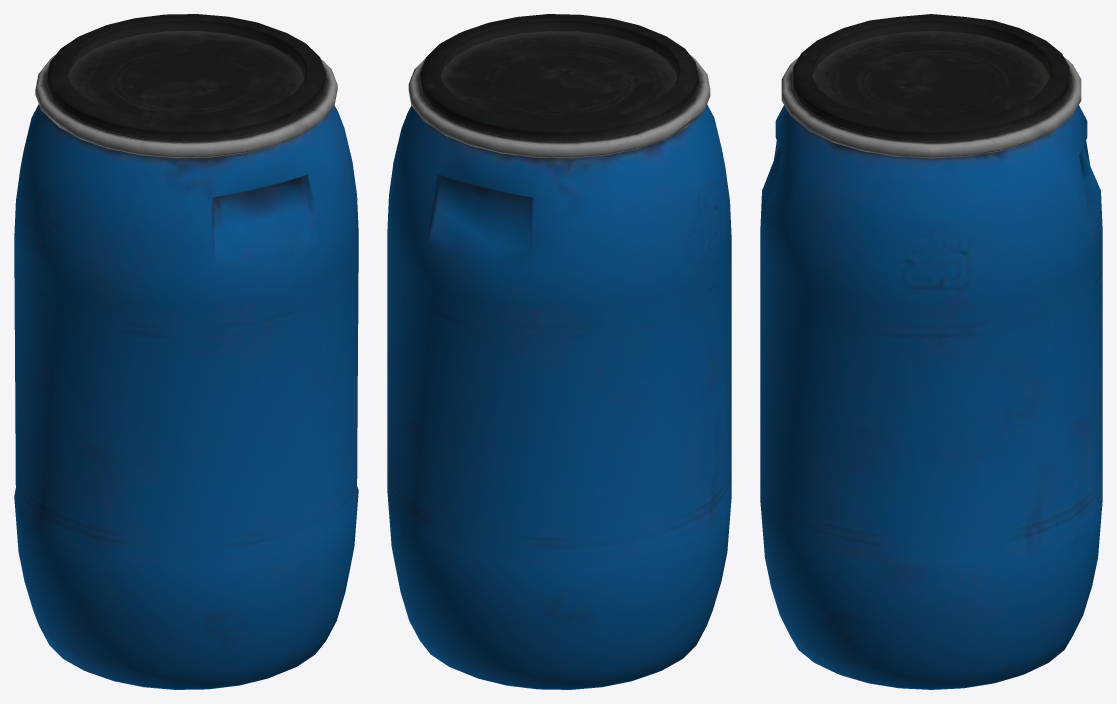
The model's file is drumPlastic.glb.
The picture shows the model from 3 angles, left to right: view 1: azimuth 30°, elevation 25°; view 2: azimuth 150°, elevation 25°; view 3: azimuth 270°, elevation 25°; orthographic projection.
Parts seen in each view (by area): view 1: Barrel_02; view 2: Barrel_02; view 3: Barrel_02.
Boxes of the visible parts, bbox=[...] form: Barrel_02: bbox=[14, 14, 358, 689]; Barrel_02: bbox=[387, 14, 731, 689]; Barrel_02: bbox=[760, 14, 1102, 689].
Size of the model in its own units: 0.4882 by 0.88 by 0.4846.
Materials: 1 (1 with a texture image).
